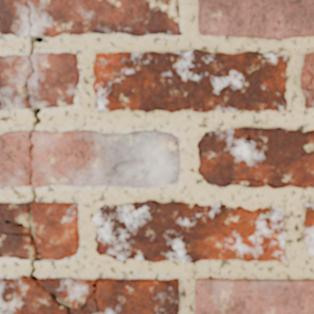brick: (93, 49, 286, 111), (94, 201, 285, 261), (198, 128, 313, 187), (198, 0, 313, 38), (195, 279, 313, 313), (304, 202, 313, 253), (301, 53, 313, 85), (303, 90, 313, 107)
broken_brick: (32, 129, 181, 188), (0, 0, 181, 38), (0, 274, 97, 313), (32, 200, 80, 261), (29, 51, 80, 108), (96, 278, 179, 313), (0, 129, 30, 188), (0, 52, 28, 110), (0, 201, 30, 232), (0, 233, 33, 260), (80, 300, 96, 313)
crack: (0, 2, 71, 311), (77, 278, 101, 313), (230, 177, 277, 188), (300, 69, 313, 100)
